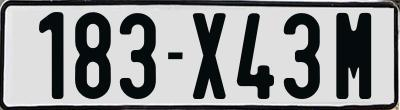1: (36, 11, 63, 102)
3: (281, 12, 323, 101), (118, 13, 155, 105)
4: (234, 12, 277, 102)
8: (74, 10, 114, 100)
M: (333, 11, 372, 100)
X: (191, 11, 224, 97)
